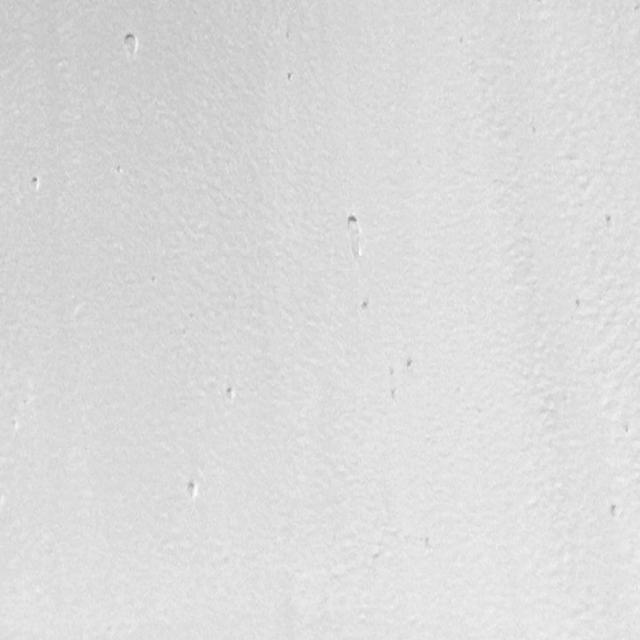pin holes: (342, 210, 369, 258), (119, 32, 142, 61), (182, 478, 201, 504), (221, 384, 241, 407), (606, 500, 624, 524), (359, 298, 373, 317), (604, 214, 617, 232), (28, 177, 42, 193), (285, 68, 299, 84), (404, 359, 417, 374), (388, 366, 401, 381), (390, 389, 401, 406), (621, 422, 633, 437), (573, 297, 584, 312)
